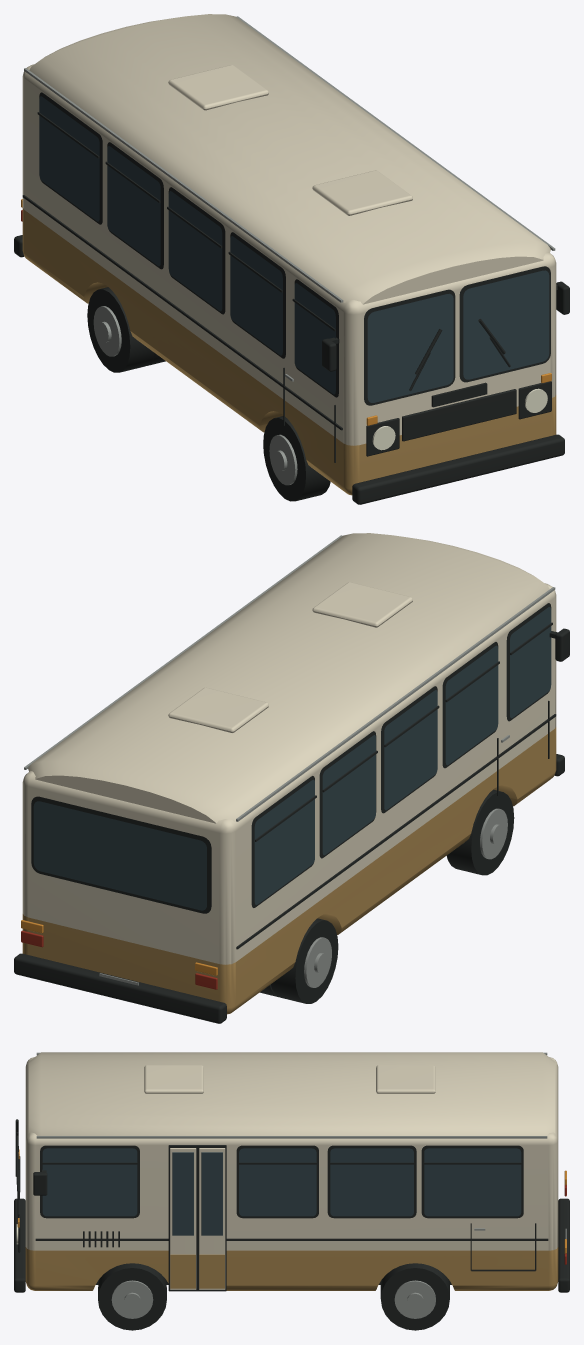
Rendered from PAZ_3205.glb.
The picture shows the model from 3 angles, top to bottom: view 1: azimuth 30°, elevation 25°; view 2: azimuth 150°, elevation 25°; view 3: azimuth 270°, elevation 25°; orthographic projection. The views are drawn at different scales.
Parts seen in each view (by area): view 1: PAZ_3205_game.001; view 2: PAZ_3205_game.001; view 3: PAZ_3205_game.001.
Part boxes in pixels (<box>): PAZ_3205_game.001: <box>14,14,569,504</box>; PAZ_3205_game.001: <box>14,533,569,1023</box>; PAZ_3205_game.001: <box>14,1052,569,1330</box>.
Bounding box in the file's own units: 2.85 × 2.98 × 7.08.
